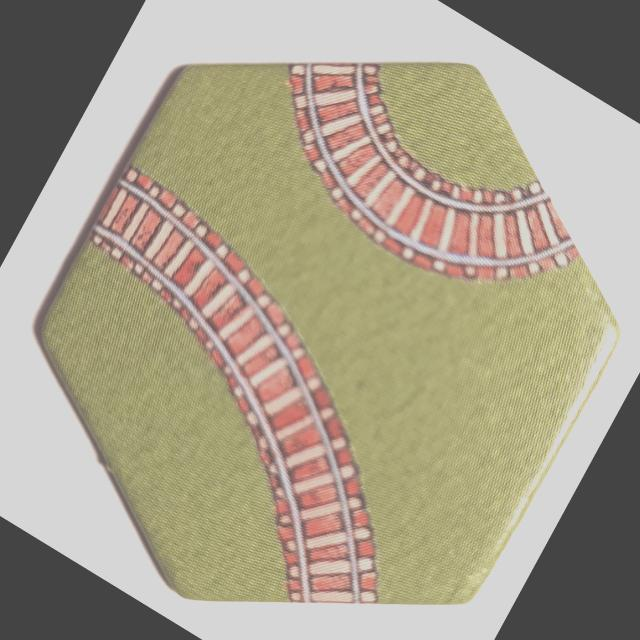15_4: (35, 63, 622, 605)
